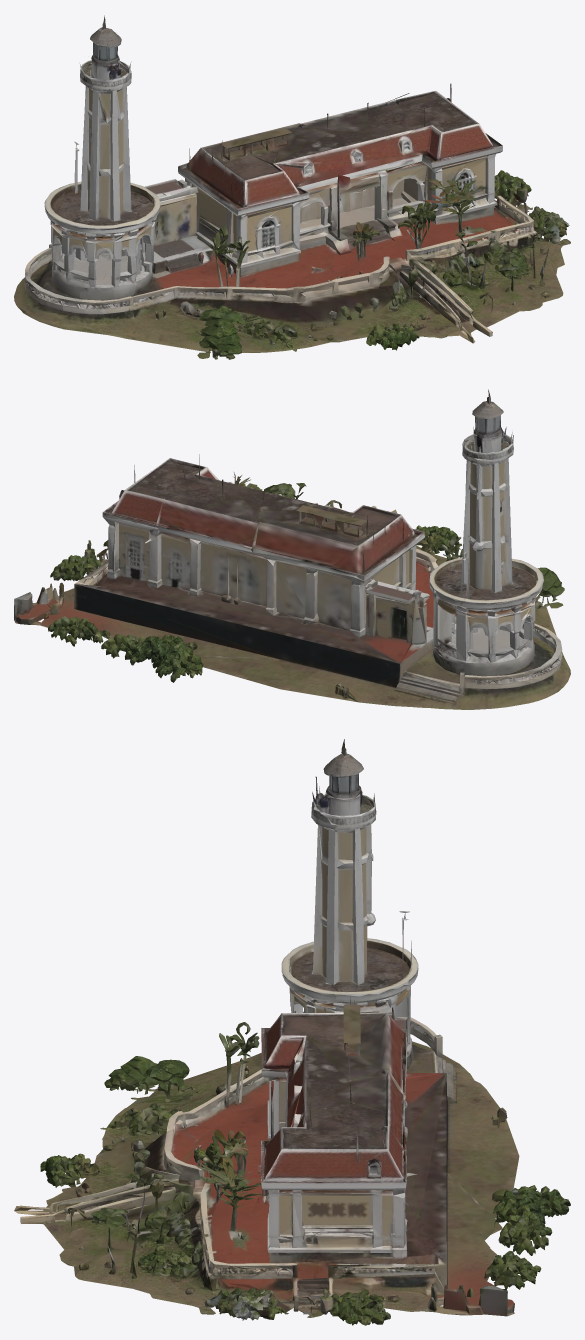
The model's file is hai_dang_vinh_thuc_v2.glb.
The picture shows the model from 3 angles, top to bottom: view 1: azimuth 30°, elevation 25°; view 2: azimuth 150°, elevation 25°; view 3: azimuth 270°, elevation 25°; orthographic projection. The views are drawn at different scales.
Visible parts, largest first — view 1: Mesh_0; view 2: Mesh_0; view 3: Mesh_0.
Part boxes in pixels (x1,y1,x2,y2): Mesh_0: (14, 15, 570, 359); Mesh_0: (14, 389, 570, 709); Mesh_0: (14, 739, 570, 1325).
Size of the model in its own units: 1.9 by 1.03 by 1.52.
1 material, 1 textured.
